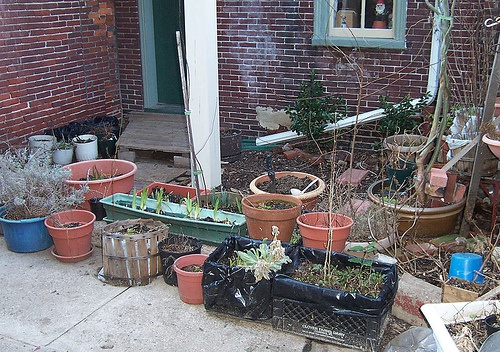flowerpot: (58, 159, 138, 209), (240, 195, 298, 250), (253, 172, 323, 214), (45, 212, 96, 263), (1, 207, 54, 253), (297, 214, 353, 254), (172, 254, 212, 308), (157, 240, 202, 286), (72, 132, 98, 161)
